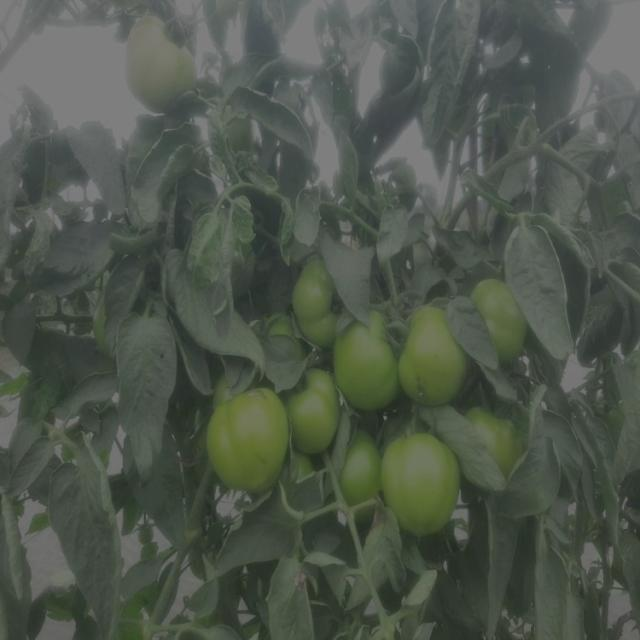tomato: (210, 384, 295, 491), (391, 431, 464, 533), (134, 21, 204, 115), (406, 305, 460, 411), (286, 373, 346, 448), (477, 280, 523, 363), (348, 329, 400, 400), (484, 412, 534, 480), (291, 265, 334, 334), (349, 428, 382, 508)
